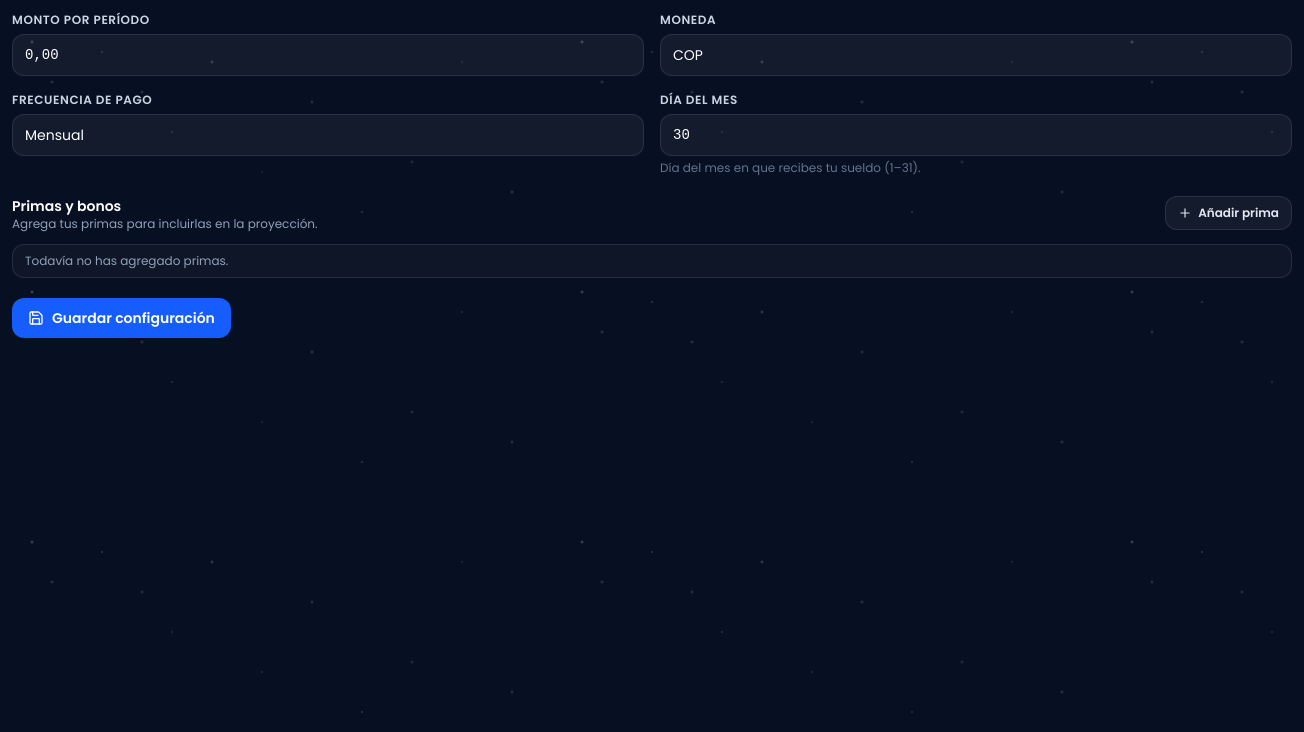
Test: SalaryForm › rejects an empty amount on submit with the localized message
The image size is (1304, 732).
Click the button "Guardar configuración". click: (121, 318)
box: [12, 298, 231, 338]
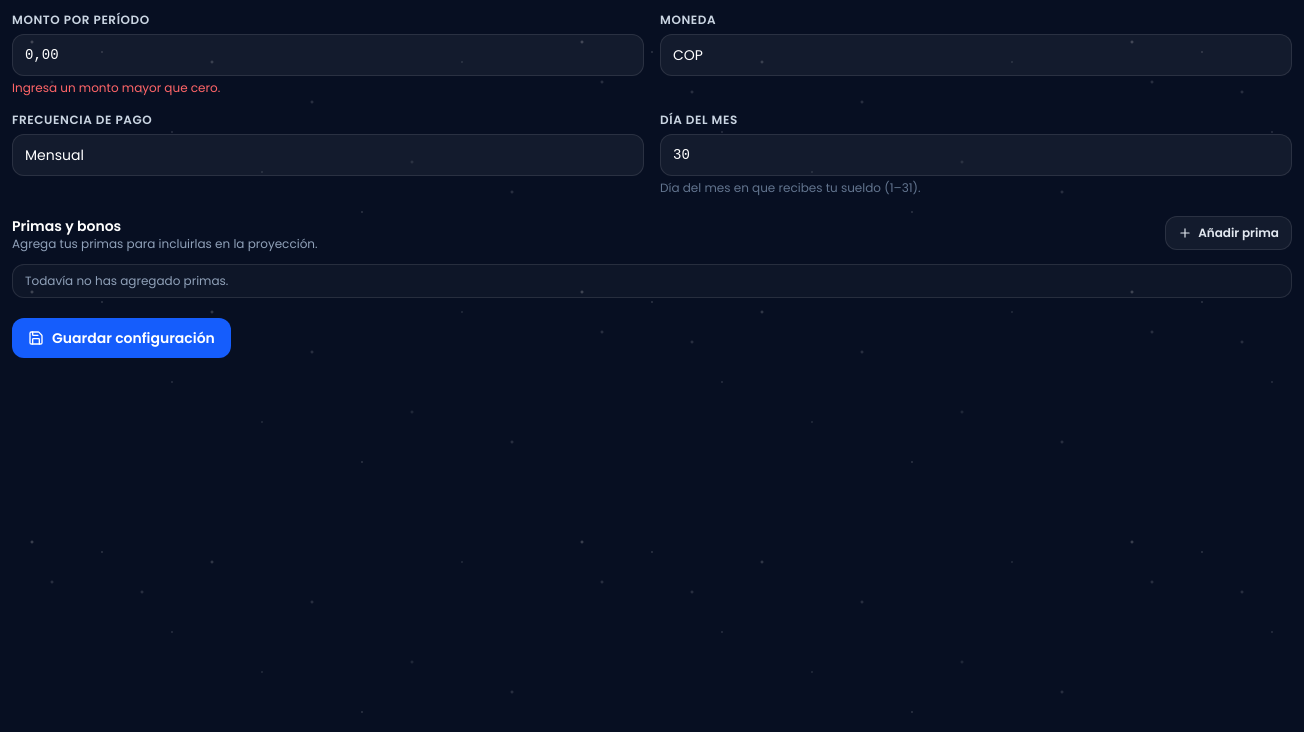
Now the message reads "Ingresa un monto mayor que cero.", box [12, 79, 220, 96]
